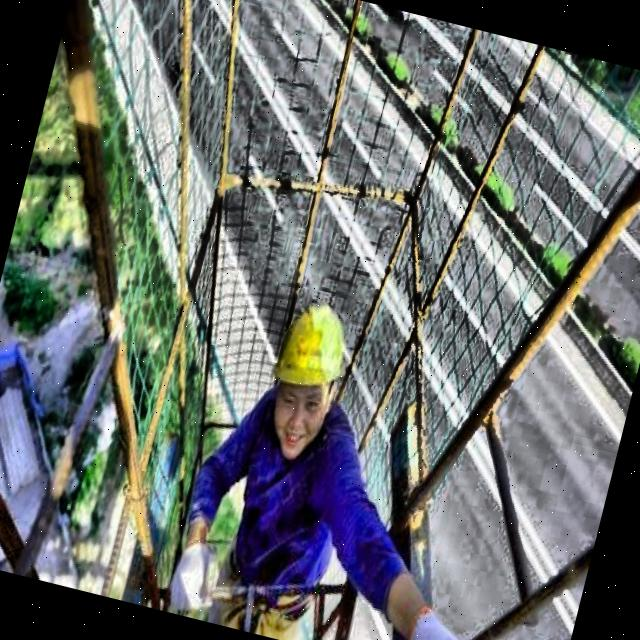helmet: (249, 280, 369, 462)
